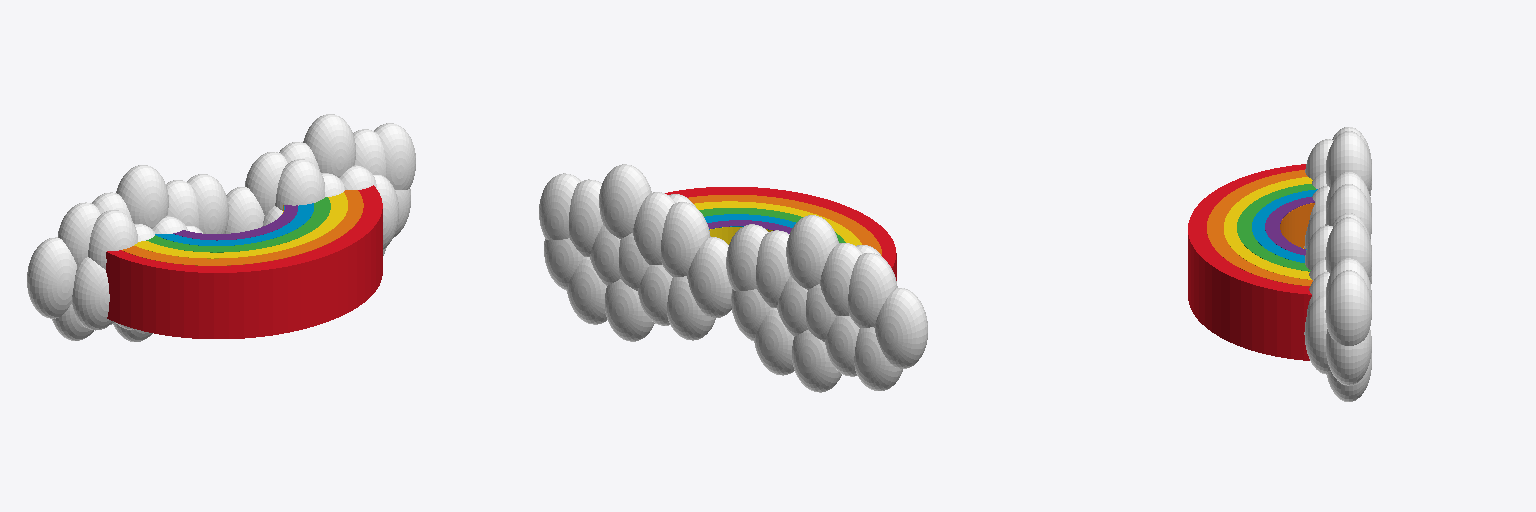
The model's file is tinker.obj.
3 views of the same model, side by side, from view 1: azimuth 30°, elevation 25°; view 2: azimuth 150°, elevation 25°; view 3: azimuth 270°, elevation 25° (orthographic).
Parts seen in each view (by area): view 1: obj_0; view 2: obj_0; view 3: obj_0.
Part boxes in pixels (x1,y1,x2,y2): obj_0: (27,114,415,341); obj_0: (539,164,927,392); obj_0: (1188,127,1371,401).
Bounding box in the file's own units: 236 × 105 × 98.